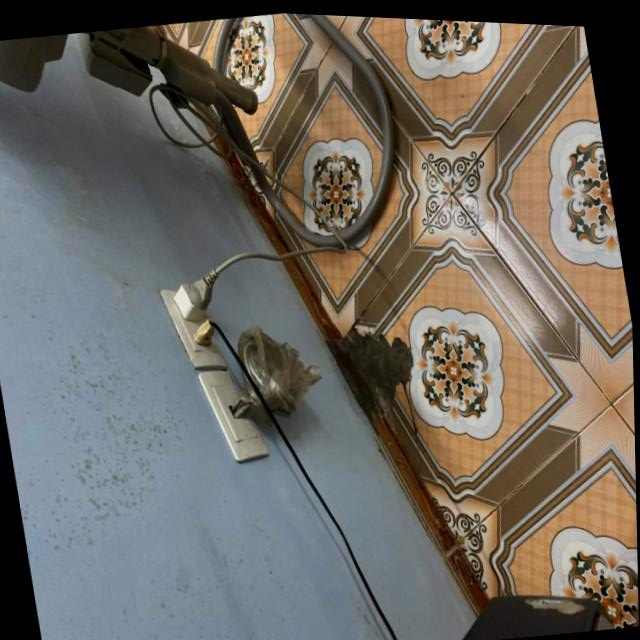outlet: (197, 364, 270, 468), (158, 280, 227, 375)
